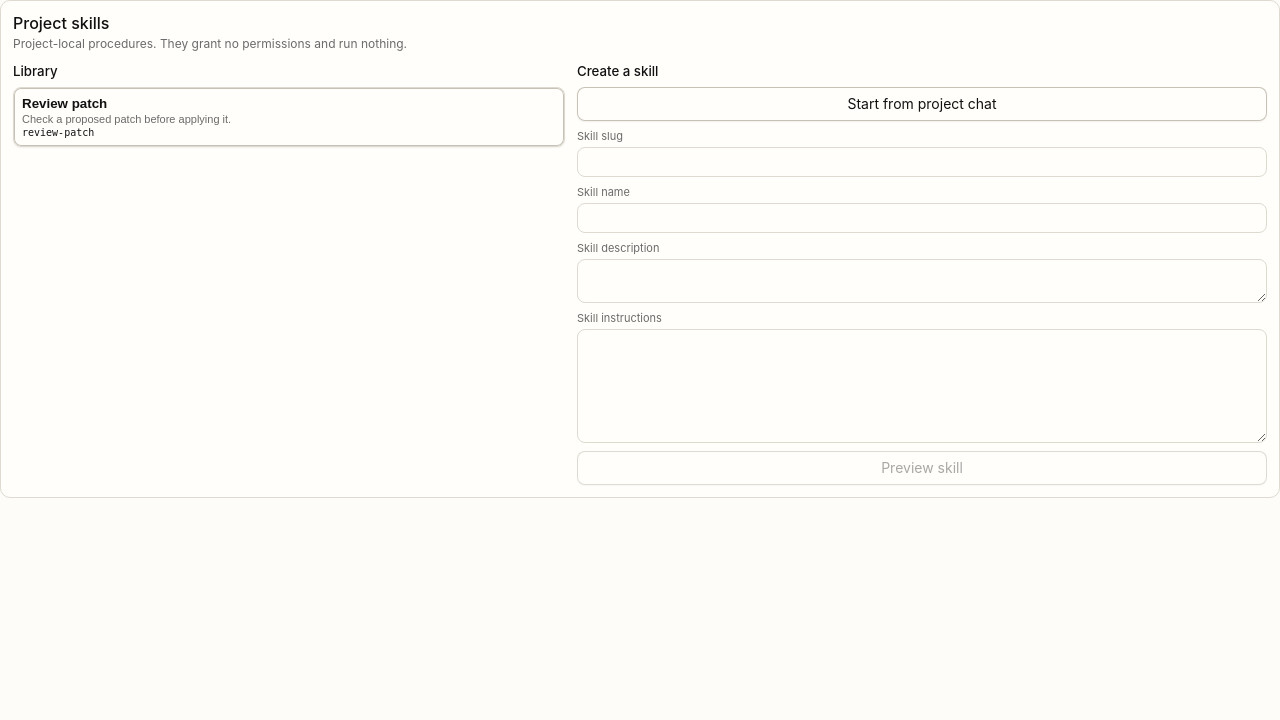
Scenario: SkillsPanel › keeps apply disabled when preview reports an existing skill
The image size is (1280, 720).
Expected: the button "Review patch" is shown, [13,87,565,147]
Type "new-skill" into the field labelled "Skill slug" at point(922, 162), box [577,147,1267,177]
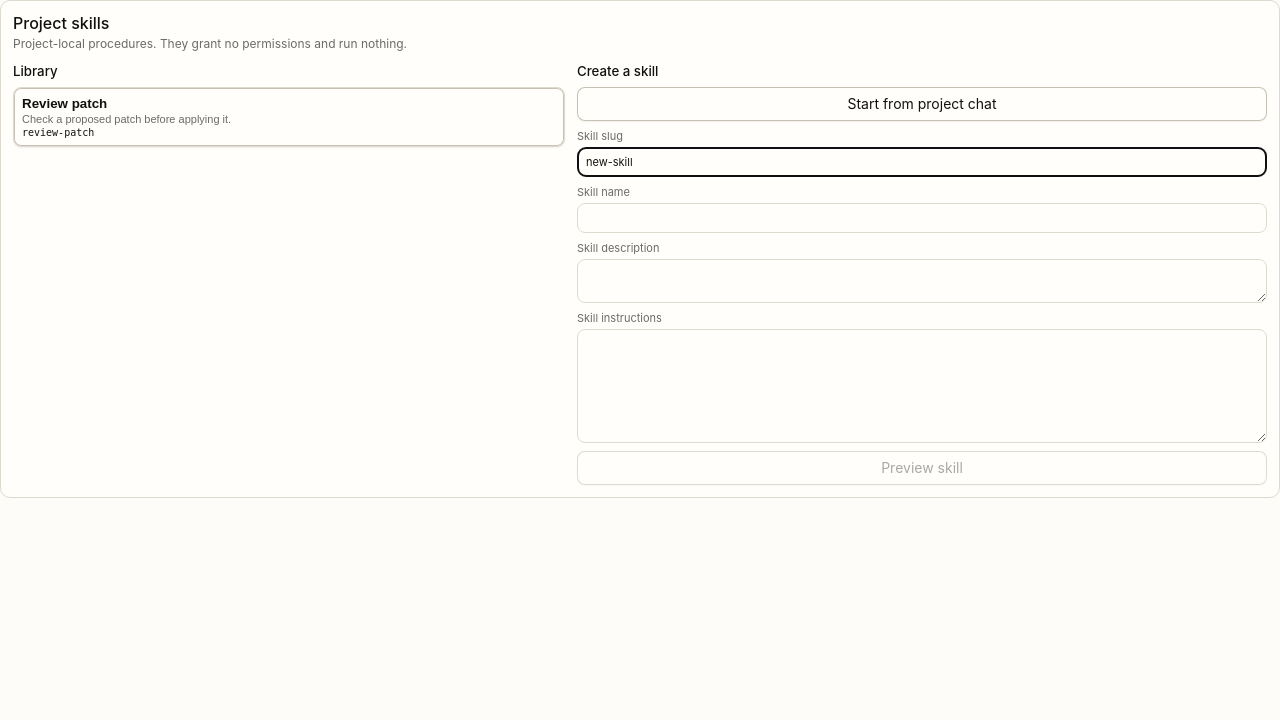
Type "New skill" into the field labelled "Skill name" at point(922, 218), box [577,203,1267,233]
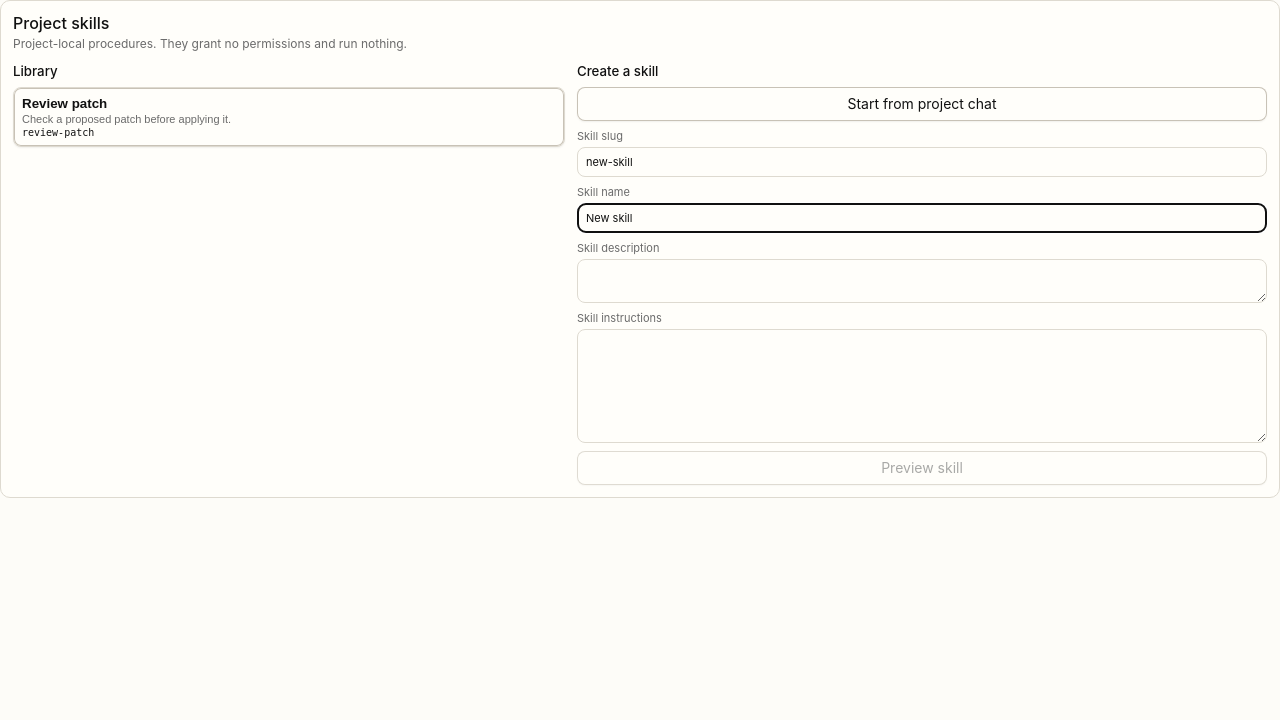
Type "A safe local procedure." into the text box labelled "Skill description" at point(922, 281), box [577,259,1267,303]
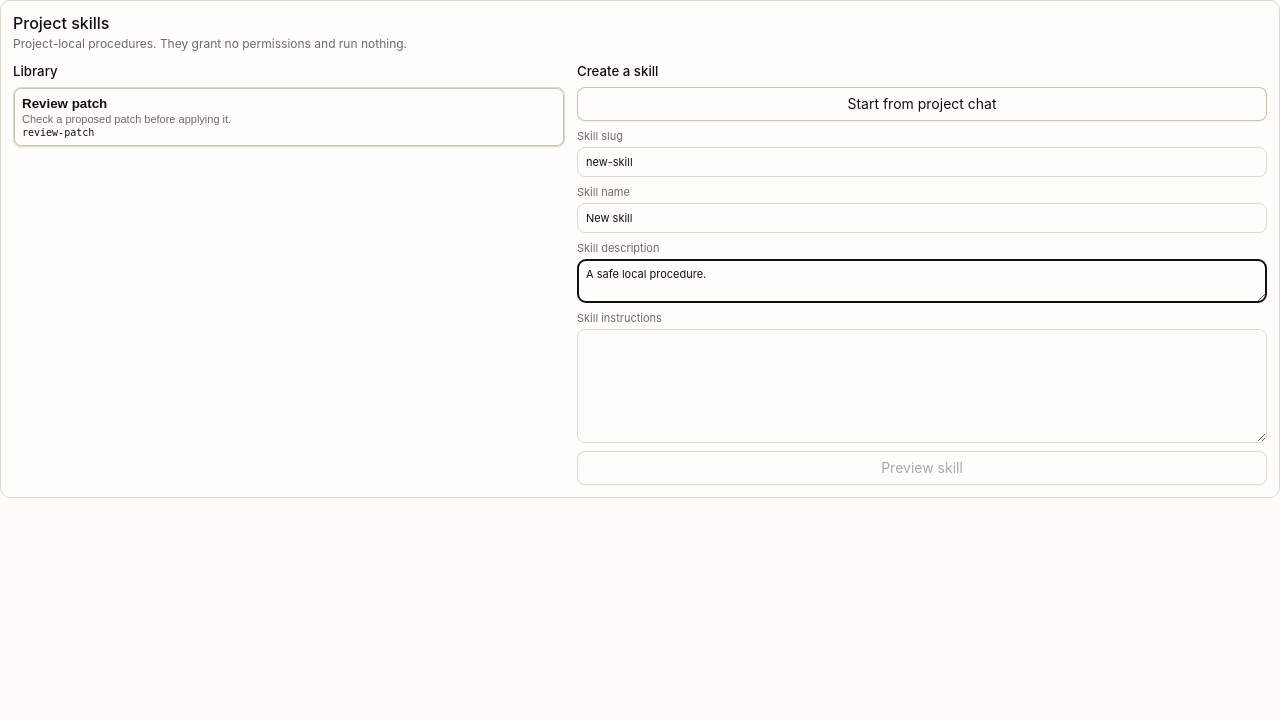
Type "Do the checked steps." into the text box labelled "Skill instructions" at point(922, 386), box [577,329,1267,443]
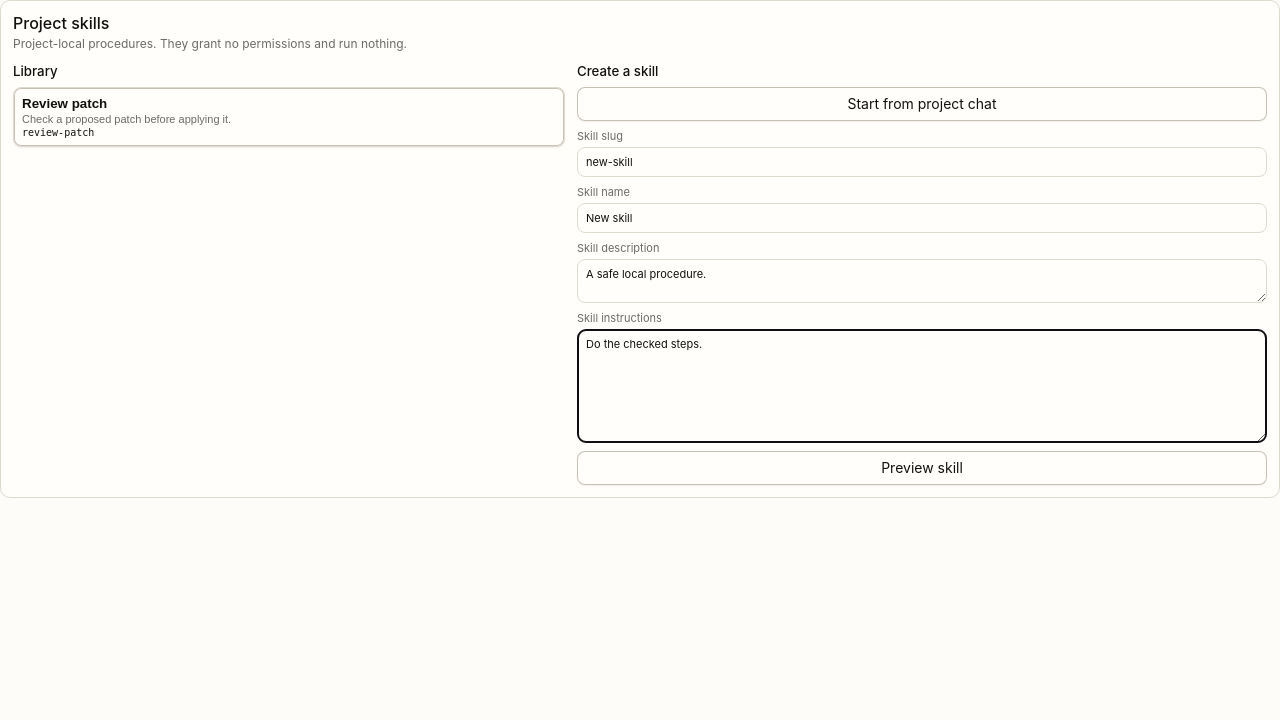
Click the button "Preview skill" at point(922, 468), box [577,451,1267,485]
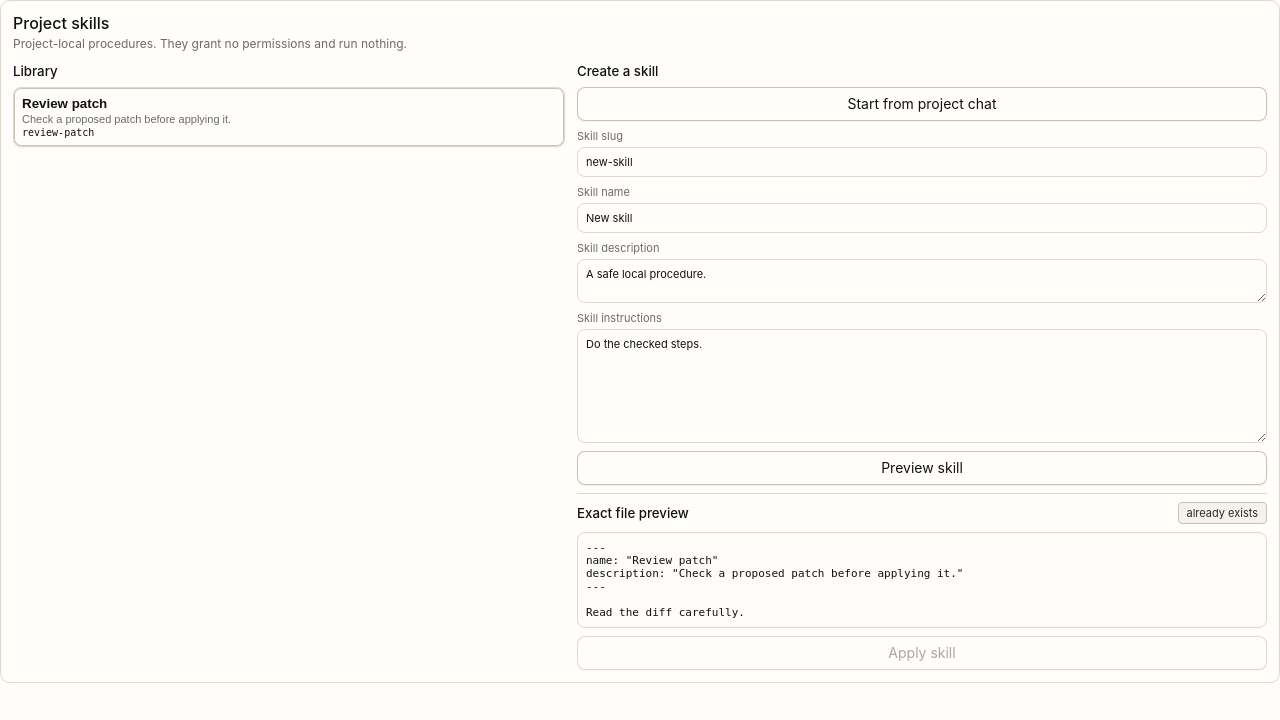
Result: the text "already exists" is shown at [1178,502,1267,524]
Result: the button "Apply skill" is disabled at [577,636,1267,670]
